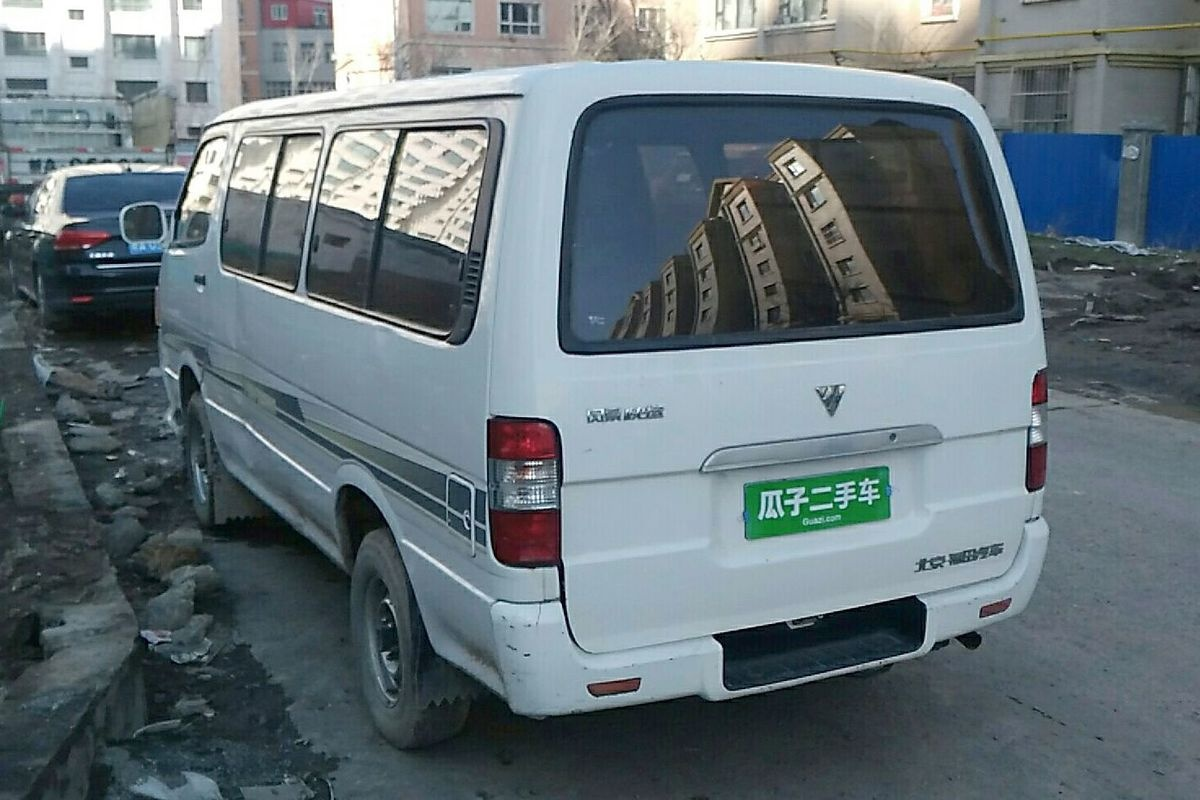minibus: (138, 50, 1072, 740)
